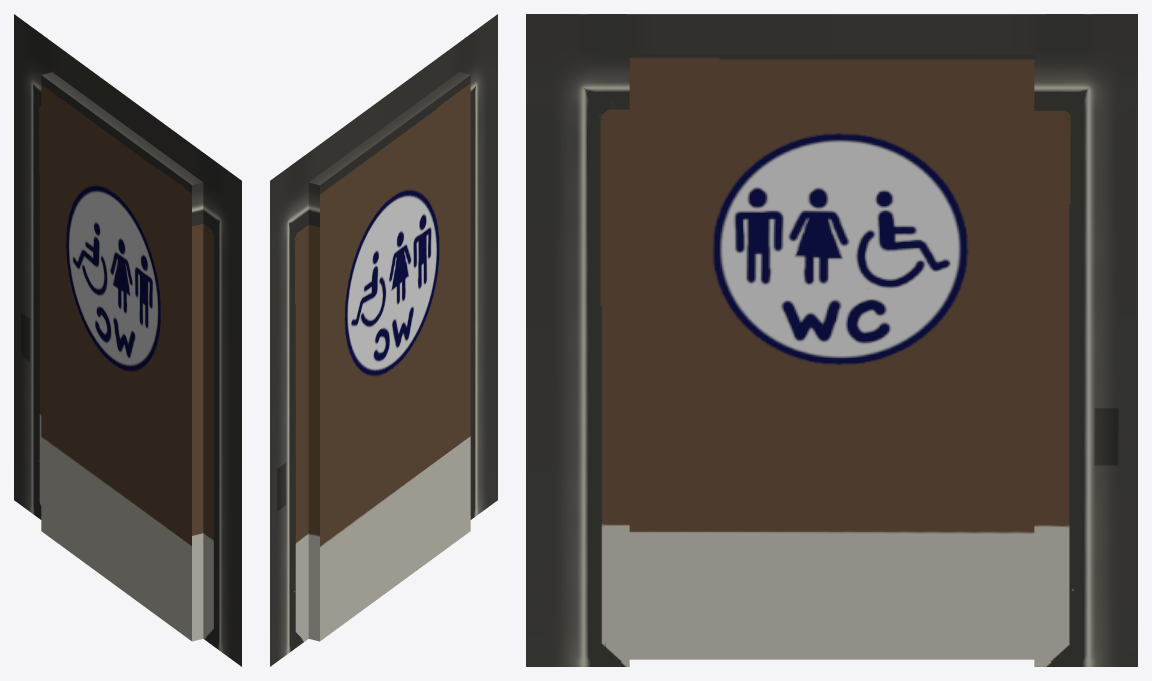
Rendered from ENV_Toilet_Door_LV1.fbx.
The picture shows the model from 3 angles, left to right: view 1: azimuth 30°, elevation 25°; view 2: azimuth 150°, elevation 25°; view 3: azimuth 270°, elevation 25°; orthographic projection. The views are drawn at different scales.
Parts seen in each view (by area): view 1: Toilet_Door_LV1; view 2: Toilet_Door_LV1; view 3: Toilet_Door_LV1.
Part boxes in pixels (x1=…): Toilet_Door_LV1: x1=14, y1=14, x2=241, y2=666; Toilet_Door_LV1: x1=270, y1=14, x2=497, y2=666; Toilet_Door_LV1: x1=526, y1=14, x2=1137, y2=666.
Bounding box in the file's own units: 1.79 × 73.7 × 62.6.
1 material, 1 textured.
